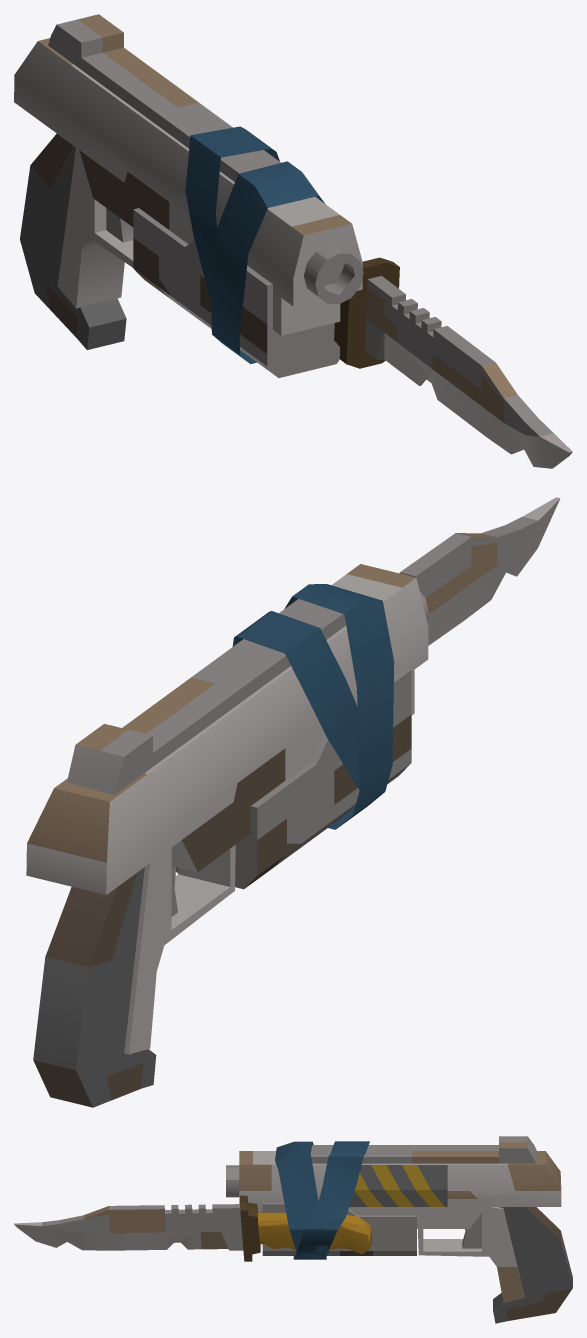
Rendered from cc0-pistol-lod1.glb.
3 views of the same model, one above another, from view 1: azimuth 30°, elevation 25°; view 2: azimuth 150°, elevation 25°; view 3: azimuth 270°, elevation 25° (orthographic). The views are drawn at different scales.
Parts seen in each view (by area): view 1: part_0; view 2: part_0; view 3: part_0.
Part boxes in pixels (x1=…): part_0: x1=14, y1=14, x2=572, y2=468; part_0: x1=26, y1=497, x2=560, y2=1107; part_0: x1=14, y1=1136, x2=572, y2=1323.
Size of the model in its own units: 0.1412 by 0.3397 by 0.9764.
1 material, 1 textured.
